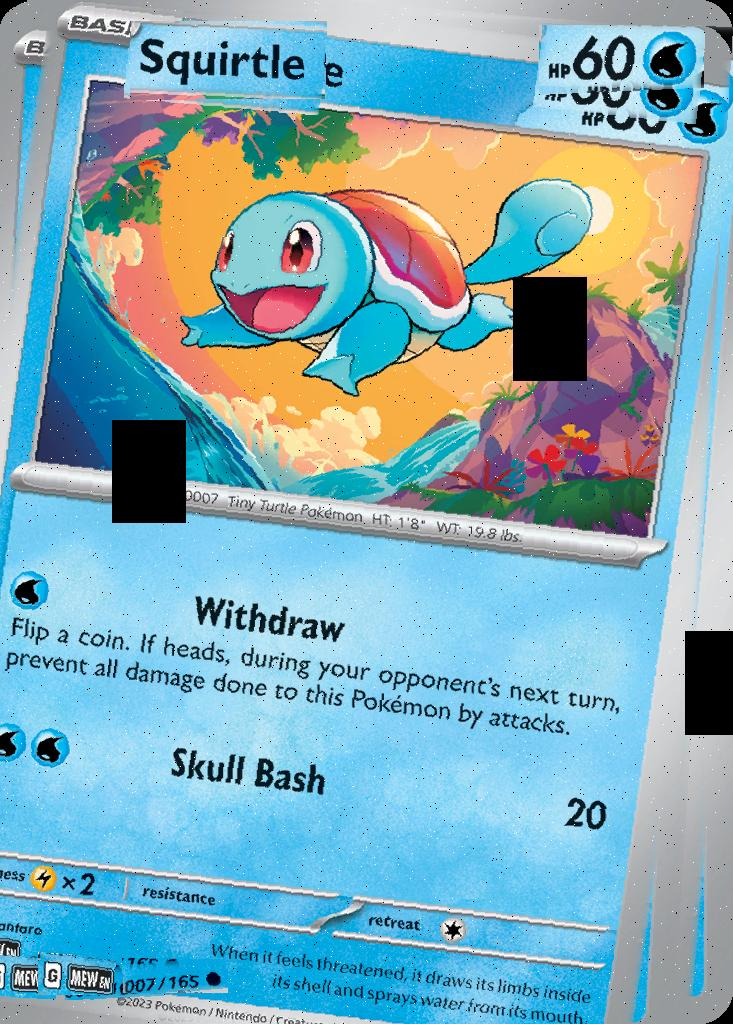card: (0, 0, 733, 1024)
hp: (539, 26, 705, 96)
name: (131, 22, 328, 101)
set num: (122, 958, 228, 993)
set symbol: (38, 952, 116, 995)
